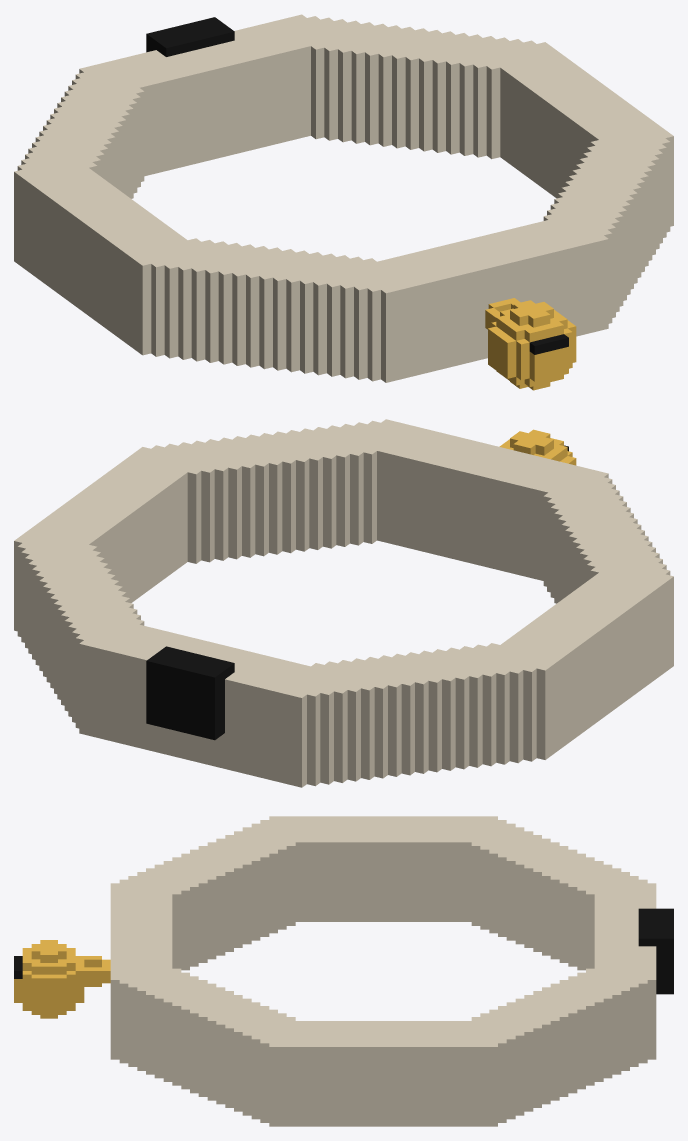
Rendered from fur_collar.glb.
3 views of the same model, one above another, from view 1: azimuth 30°, elevation 25°; view 2: azimuth 150°, elevation 25°; view 3: azimuth 270°, elevation 25° (orthographic). The views are drawn at different scales.
Parts seen in each view (by area): view 1: fur_collar:compound; view 2: fur_collar:compound; view 3: fur_collar:compound.
Boxes of the visible parts, x1=… form: fur_collar:compound: x1=14, y1=14, x2=673, y2=390; fur_collar:compound: x1=14, y1=419, x2=673, y2=787; fur_collar:compound: x1=14, y1=816, x2=673, y2=1126.
Bounding box in the file's own units: 0.124 × 0.022 × 0.15.
